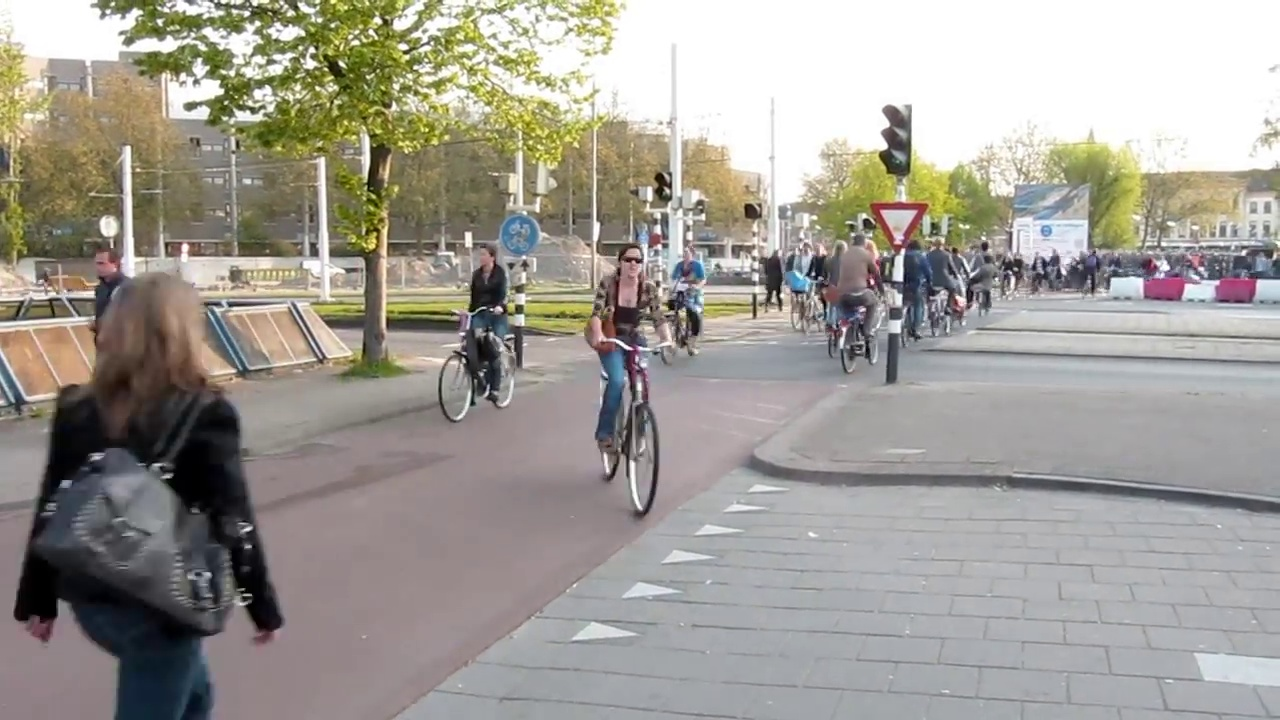cyclist_back: (836, 235, 883, 373), (900, 241, 924, 347)
cyclist_front: (589, 239, 663, 520), (443, 238, 522, 418), (661, 246, 706, 361)
